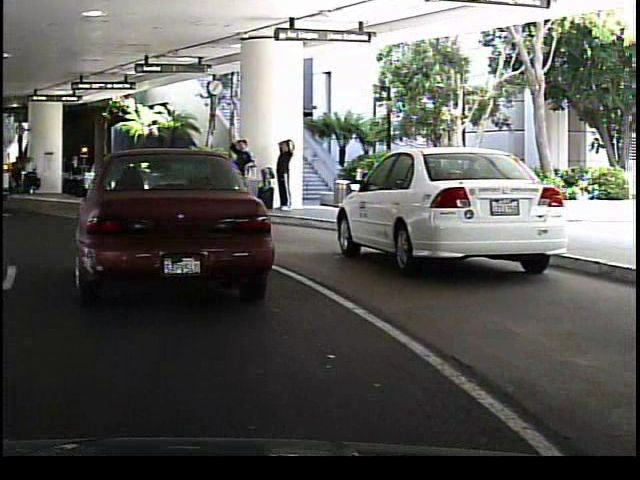person: (226, 132, 252, 212), (272, 133, 294, 211), (285, 146, 307, 209), (120, 156, 136, 194)
